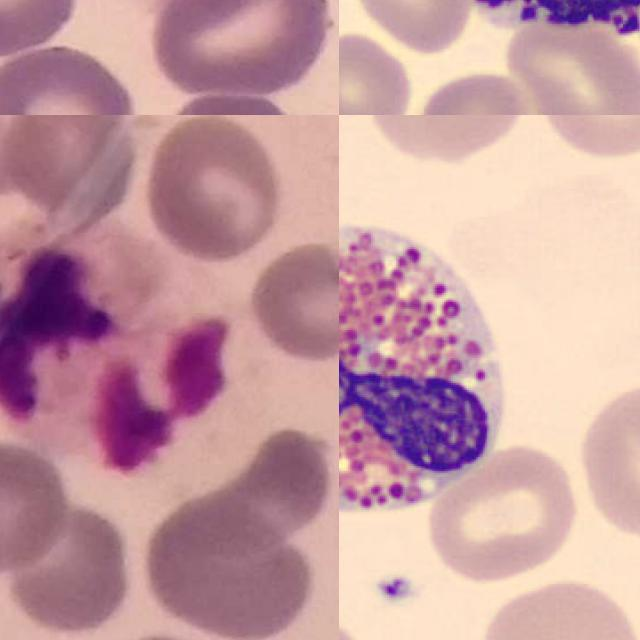Basophil: (424, 0, 640, 50)
Eosinophil: (339, 208, 513, 532)
Neutrophil: (0, 221, 244, 468)
Platelets: (369, 568, 421, 609)
RBC: (423, 441, 585, 586), (495, 4, 640, 115), (474, 571, 640, 640), (571, 376, 640, 541), (362, 115, 536, 164), (342, 0, 475, 53), (339, 27, 416, 115), (411, 66, 534, 115), (533, 115, 640, 162)
